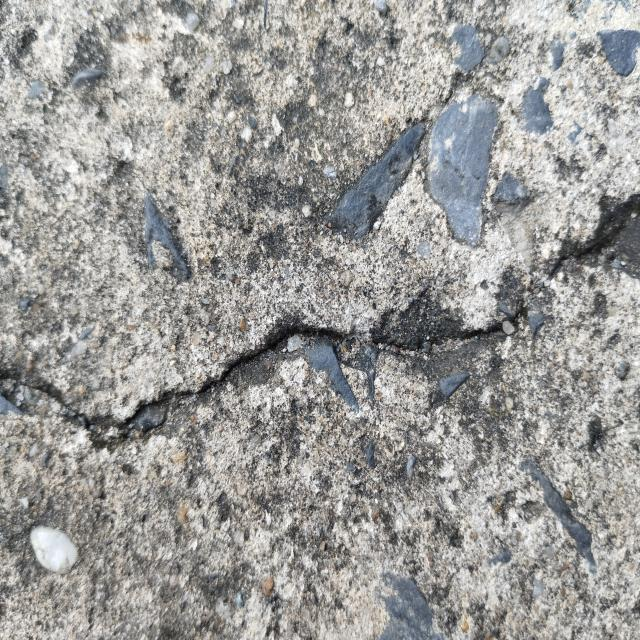curved crack: (23, 195, 639, 433)
